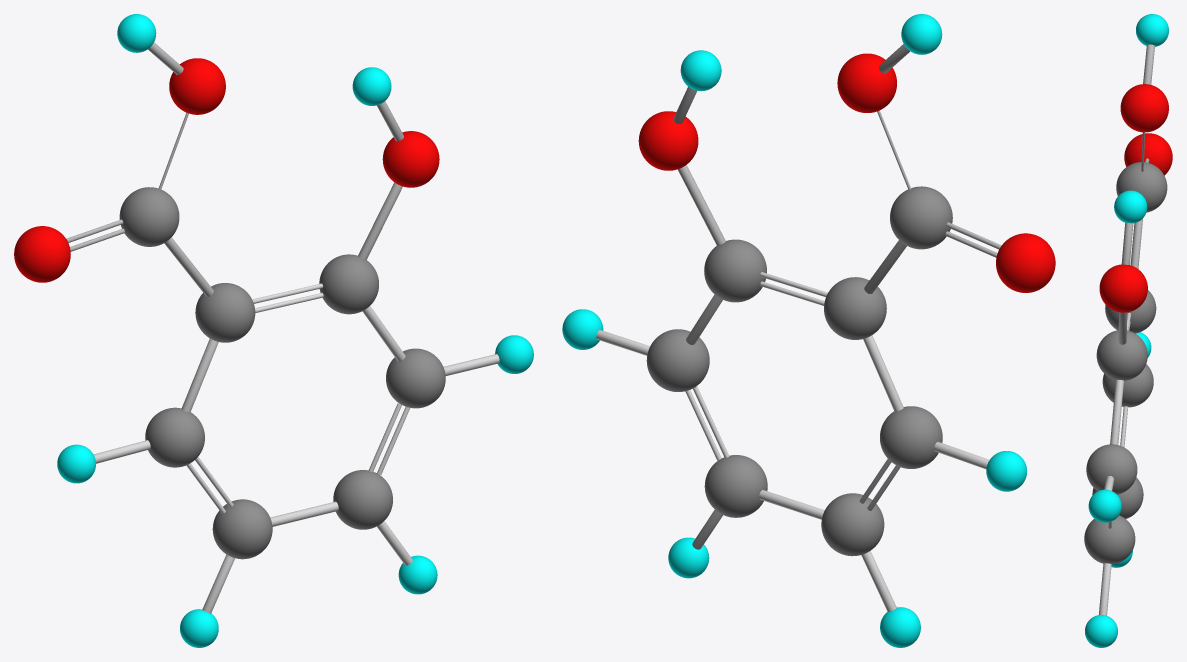
The model's file is methyl salicylate.glb.
3 renders of one model, left to right at view 1: azimuth 30°, elevation 25°; view 2: azimuth 150°, elevation 25°; view 3: azimuth 270°, elevation 25°, orthographic. The views are drawn at different scales.
Parts seen in each view (by area): view 1: CMAtom_10, CMAtom_2, CMAtom_0, CMAtom_3, CMAtom_5, CMAtom_1, CMAtom_4, CMAtom_11, CMAtom_13, CMAtom_12, CMAtom_9, CMAtom_15 (+6 smaller); view 2: CMAtom_10, CMAtom_2, CMAtom_0, CMAtom_5, CMAtom_3, CMAtom_4, CMAtom_1, CMAtom_11, CMAtom_13, CMAtom_12, CMAtom_15, CMAtom_9 (+7 smaller); view 3: CMAtom_2, CMAtom_4, CMAtom_0, CMAtom_12, CMAtom_13, CMAtom_10, CMAtom_11, CMAtom_5, CMAtom_1, CMAtom_8, CMAtom_15, CMAtom_6 (+9 smaller).
Part boxes in pixels (x1,y1,x2,y2): CMAtom_10: [119, 187, 179, 246]; CMAtom_2: [319, 254, 378, 314]; CMAtom_0: [333, 470, 392, 529]; CMAtom_3: [212, 499, 272, 559]; CMAtom_5: [145, 407, 204, 467]; CMAtom_1: [195, 283, 255, 342]; CMAtom_4: [386, 348, 445, 408]; CMAtom_11: [14, 226, 70, 282]; CMAtom_13: [382, 131, 439, 187]; CMAtom_12: [169, 58, 225, 114]; CMAtom_9: [57, 444, 95, 483]; CMAtom_15: [352, 67, 391, 105]; CMAtom_10: [890, 186, 952, 249]; CMAtom_2: [704, 239, 766, 302]; CMAtom_0: [704, 455, 767, 517]; CMAtom_5: [880, 406, 942, 468]; CMAtom_3: [821, 493, 884, 556]; CMAtom_4: [646, 329, 709, 391]; CMAtom_1: [824, 277, 886, 339]; CMAtom_11: [996, 233, 1055, 292]; CMAtom_13: [638, 111, 698, 170]; CMAtom_12: [837, 53, 896, 112]; CMAtom_15: [680, 50, 721, 91]; CMAtom_9: [986, 451, 1026, 491]; CMAtom_2: [1096, 330, 1147, 380]; CMAtom_4: [1086, 444, 1137, 494]; CMAtom_0: [1084, 515, 1135, 564]; CMAtom_12: [1120, 84, 1168, 132]; CMAtom_13: [1099, 264, 1147, 312]; CMAtom_10: [1116, 162, 1167, 212]; CMAtom_11: [1124, 133, 1172, 175]; CMAtom_5: [1102, 364, 1153, 407]; CMAtom_1: [1105, 290, 1156, 333]; CMAtom_8: [1088, 489, 1121, 522]; CMAtom_15: [1114, 190, 1147, 223]; CMAtom_6: [1085, 615, 1117, 647].
Bounding box in the file's own units: 5.8 × 7.1 × 1.07.
